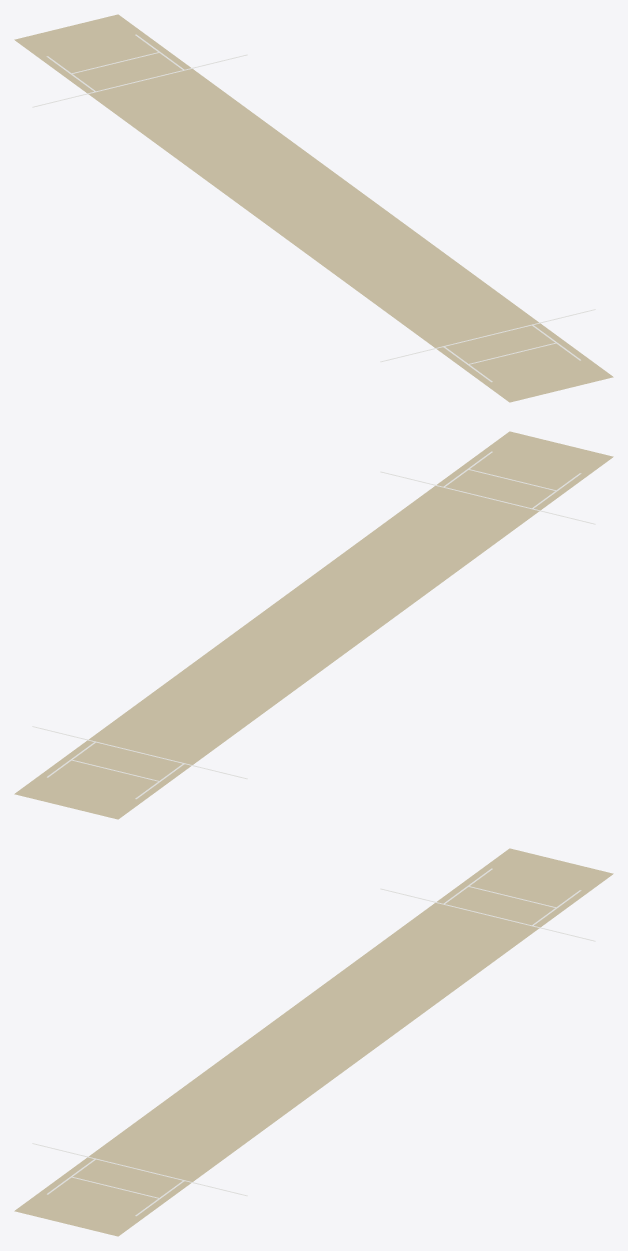
File: slice-ground.glb
3 renders of one model, top to bottom at view 1: azimuth 30°, elevation 25°; view 2: azimuth 150°, elevation 25°; view 3: azimuth 330°, elevation 25°, orthographic.
Visible parts, largest first — view 1: pitch, creases; view 2: pitch, creases; view 3: pitch, creases.
Part boxes in pixels (x1=…): pitch: x1=14, y1=14, x2=613, y2=402; creases: x1=32, y1=34, x2=595, y2=382; pitch: x1=14, y1=431, x2=613, y2=819; creases: x1=32, y1=451, x2=595, y2=799; pitch: x1=14, y1=848, x2=613, y2=1236; creases: x1=32, y1=868, x2=595, y2=1216.
Size of what is drawn, in the model's own units: 6.3 by 0.002 by 25.12.
